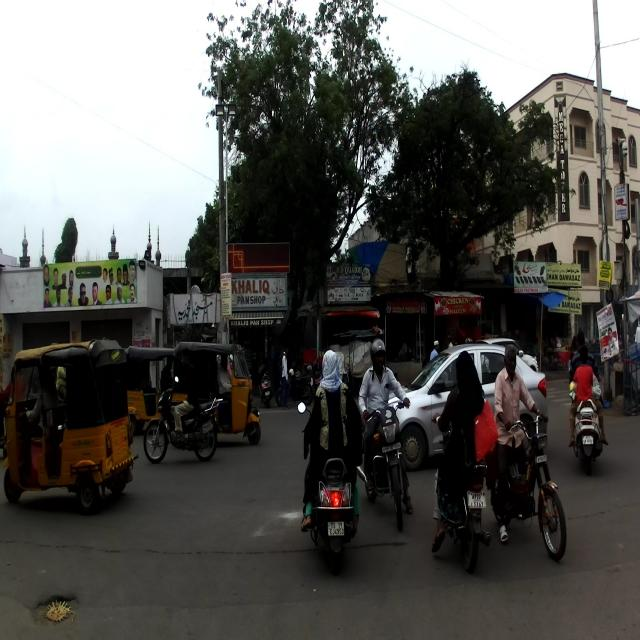Car: (380, 342, 548, 472)
autorickshaw: (3, 338, 138, 517), (172, 339, 261, 453), (123, 344, 176, 434)
motorcycle_Hero: (431, 412, 492, 574), (142, 376, 222, 464), (358, 398, 410, 533)
scooter: (296, 401, 356, 574), (567, 396, 603, 476)
